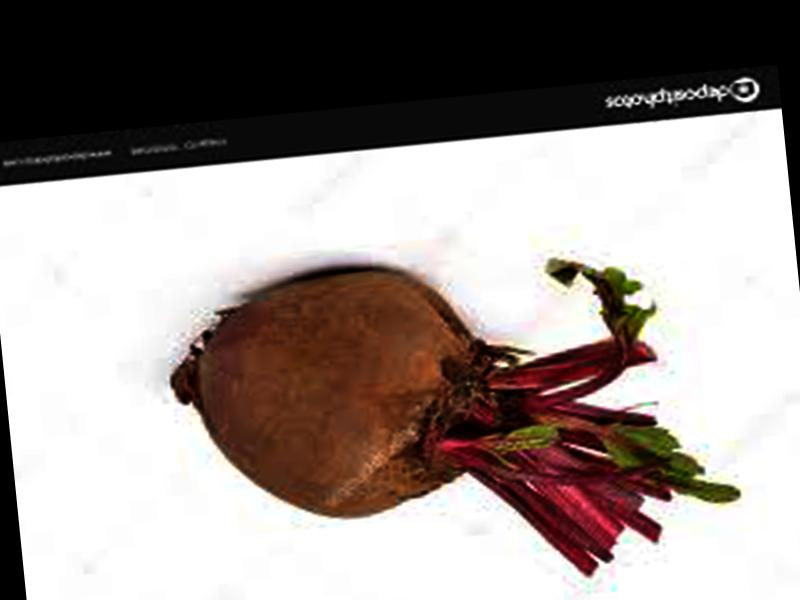Beet: (160, 230, 746, 600)
